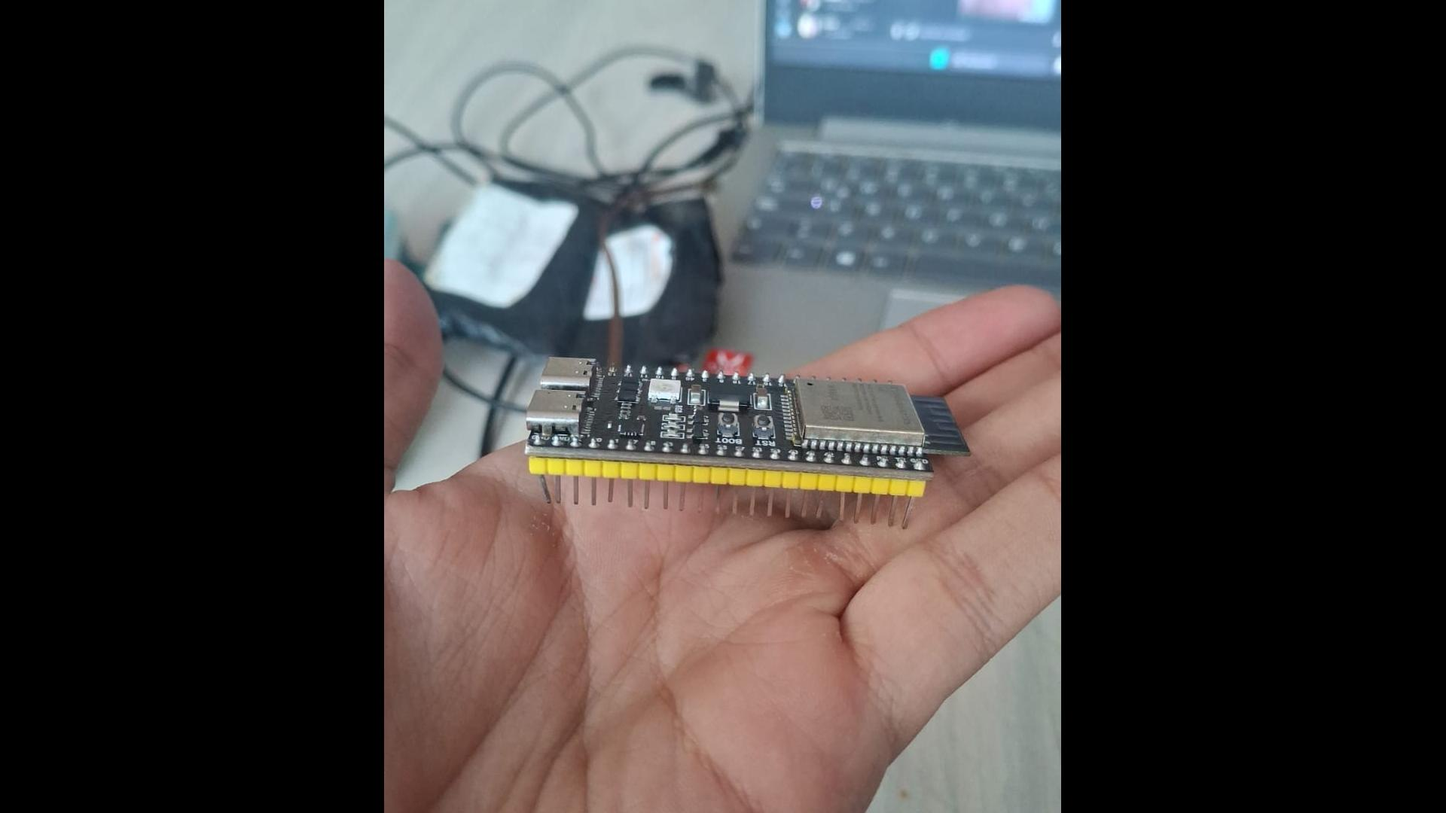ESP32: (526, 358, 969, 527)
